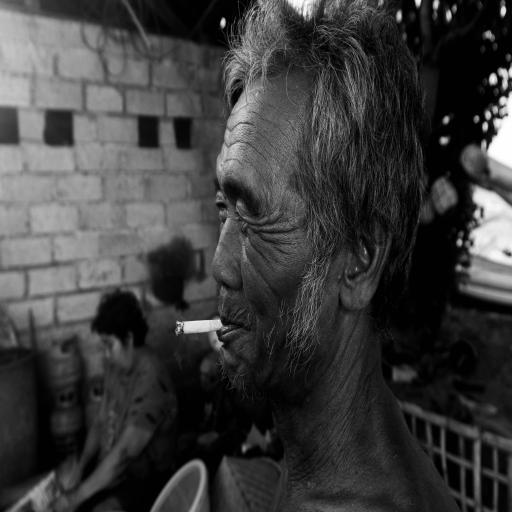dataset-deteksi-merokok: (151, 128, 268, 381)
